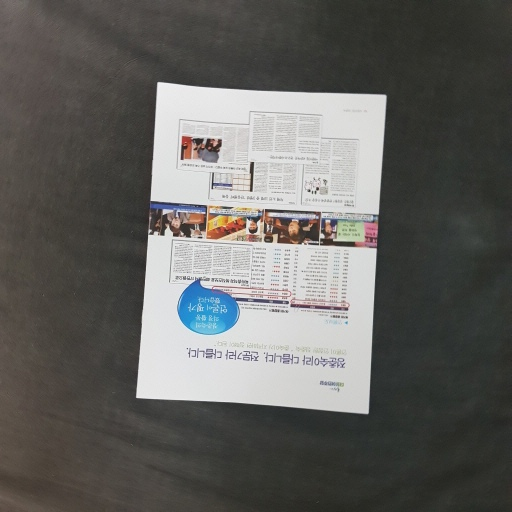Paper_2: (126, 75, 390, 430)
